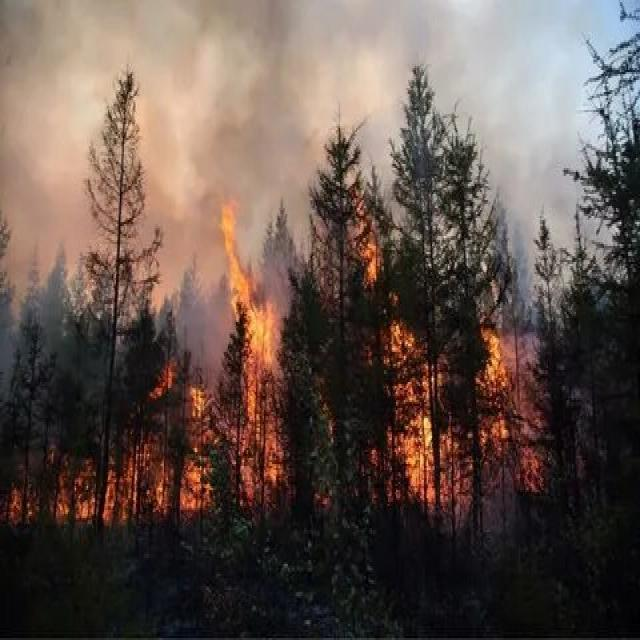Fire: (166, 209, 398, 545)
Smoke: (0, 0, 640, 212)
